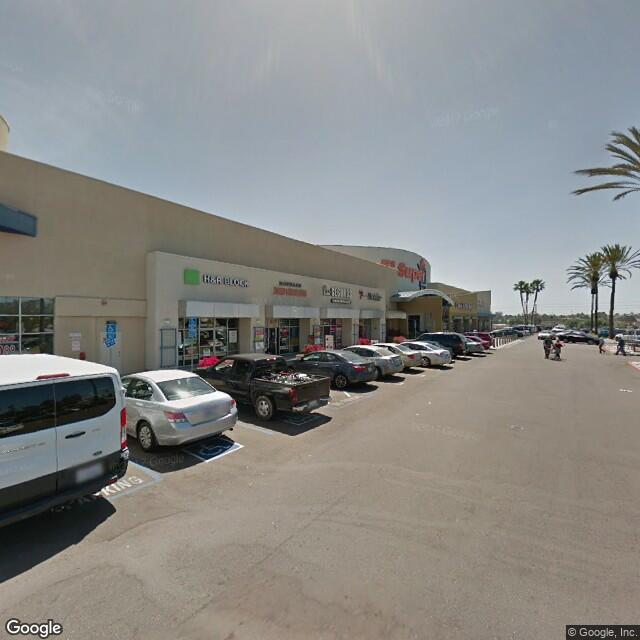litter: (617, 384, 632, 398)
